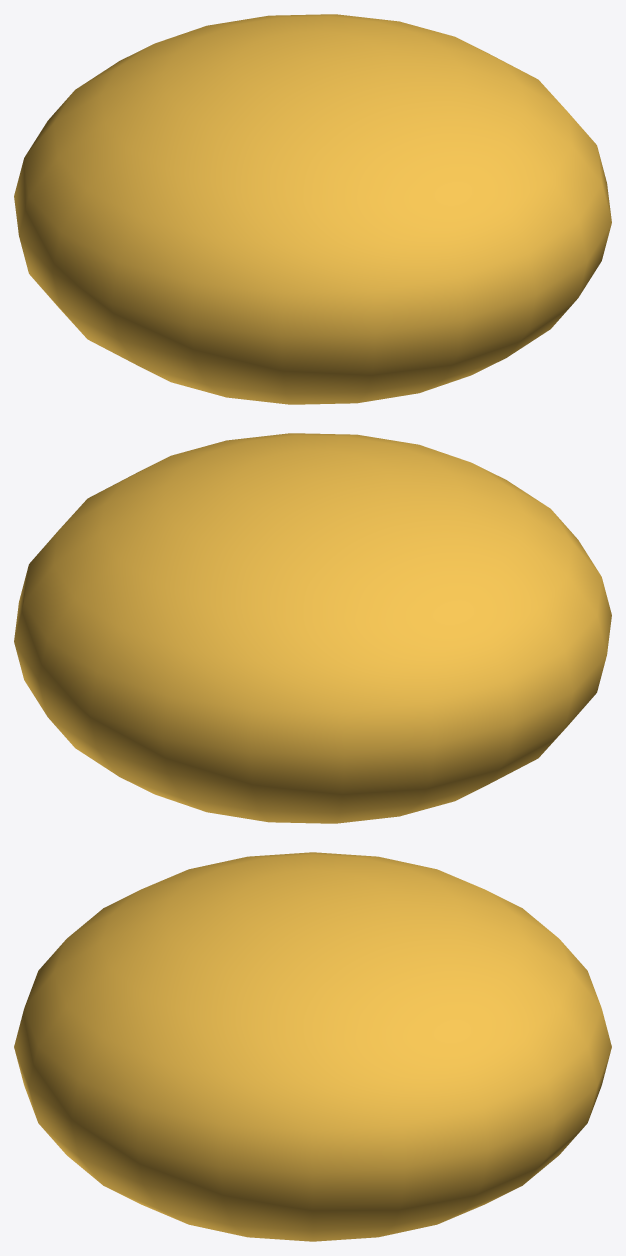
File: Kids_Bean_Bag_1.glb
3 views of the same model, one above another, from view 1: azimuth 30°, elevation 25°; view 2: azimuth 150°, elevation 25°; view 3: azimuth 270°, elevation 25° (orthographic).
Parts seen in each view (by area): view 1: Kids_Bean_Bag_1_Yellow; view 2: Kids_Bean_Bag_1_Yellow; view 3: Kids_Bean_Bag_1_Yellow.
Part boxes in pixels (x1,y1,x2,y2): Kids_Bean_Bag_1_Yellow: (14,14,611,404); Kids_Bean_Bag_1_Yellow: (14,433,611,823); Kids_Bean_Bag_1_Yellow: (14,852,611,1241).
Size of the model in its own units: 0.84 by 0.462 by 0.84.
